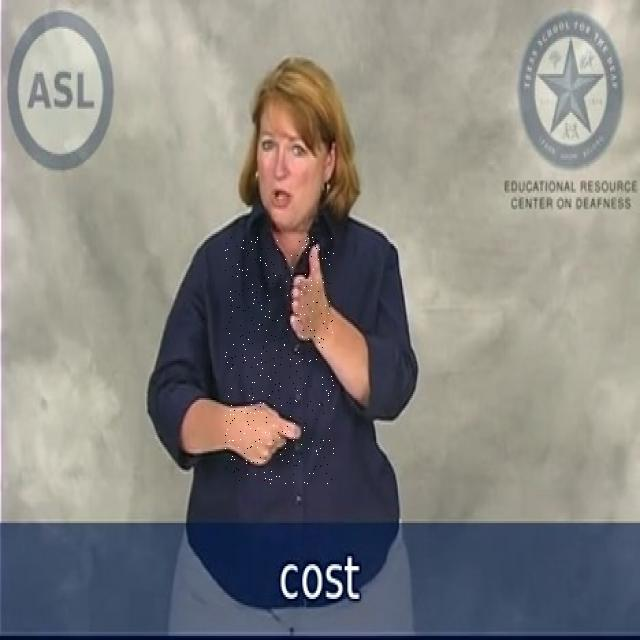cost: (225, 236, 335, 484)
